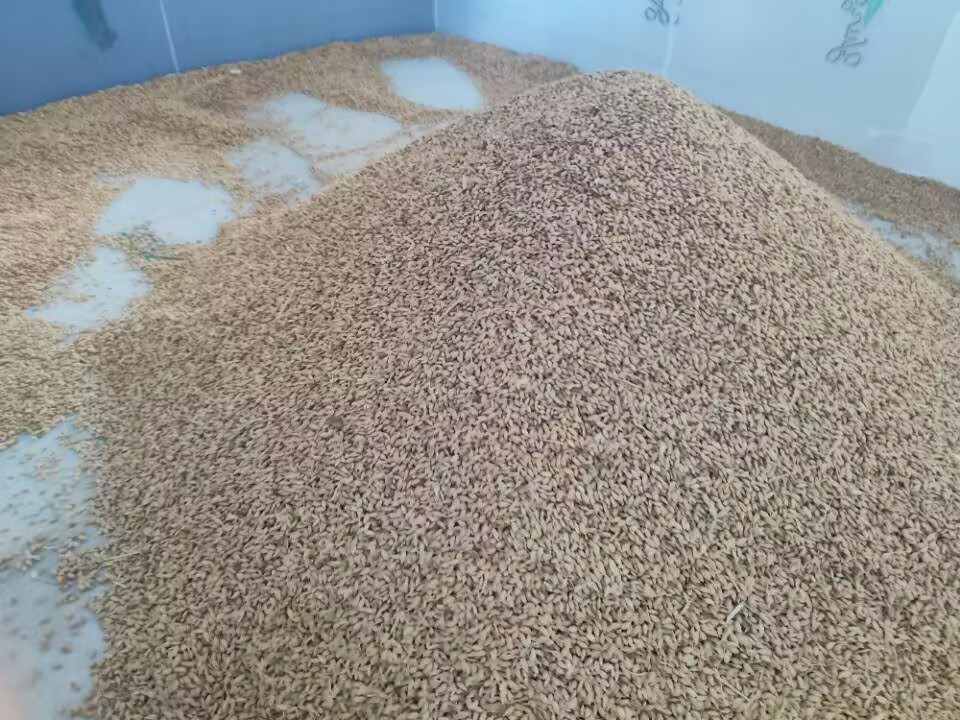Grain: (348, 65, 938, 688)
